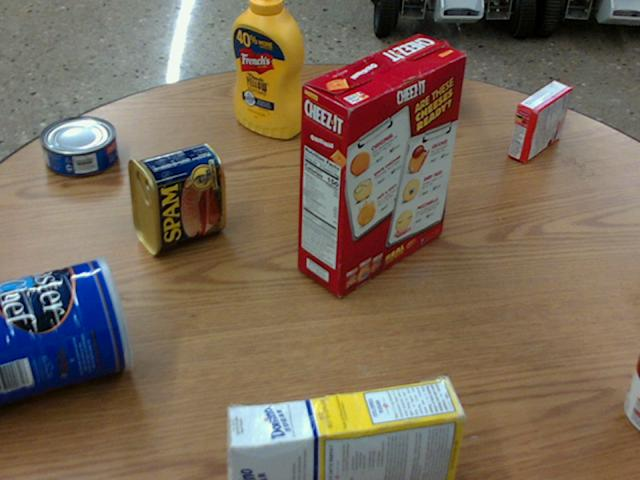cracker_box: (297, 34, 463, 295)
gelatin_box: (508, 81, 572, 163)
master_chef_can: (0, 256, 132, 404)
mug: (380, 38, 456, 112)
mustard_bottle: (230, 0, 302, 137)
potted_meat_can: (126, 141, 223, 253)
sugar_box: (221, 377, 463, 479)
tomato_soup_can: (622, 347, 639, 430)
tuna_fish_can: (41, 115, 116, 174)
